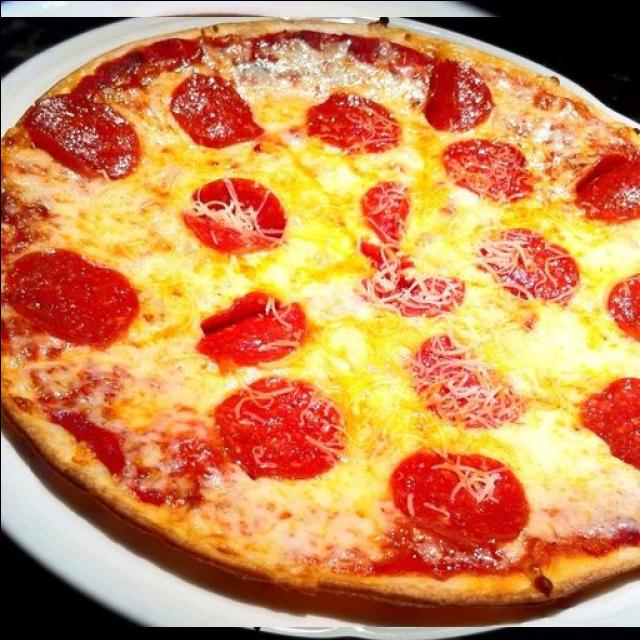pepperoni: (292, 162, 425, 265), (109, 95, 250, 192), (500, 296, 635, 393), (114, 216, 230, 308), (500, 462, 612, 548), (330, 276, 444, 352), (59, 337, 164, 415), (356, 387, 458, 466), (175, 324, 278, 392), (378, 494, 472, 568), (0, 171, 67, 266), (239, 490, 337, 551), (104, 442, 198, 503), (146, 512, 217, 584), (0, 418, 65, 491), (232, 394, 277, 466), (0, 303, 35, 371)
pizza: (0, 16, 639, 626)
